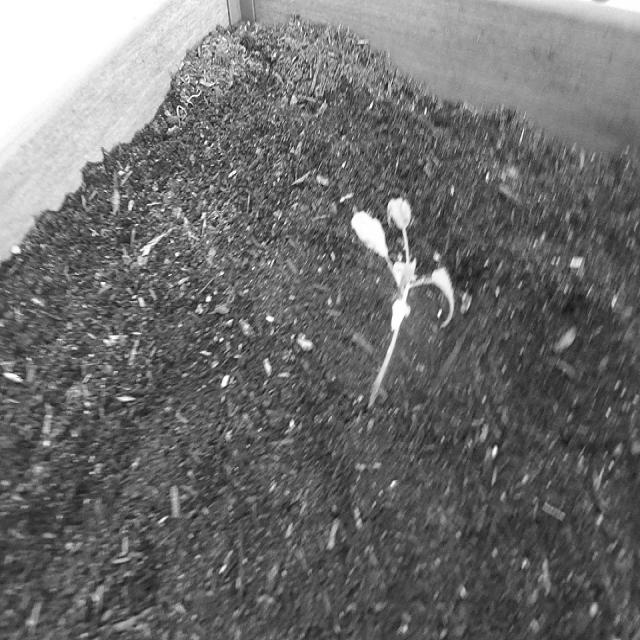Healthy: (349, 190, 459, 420)
